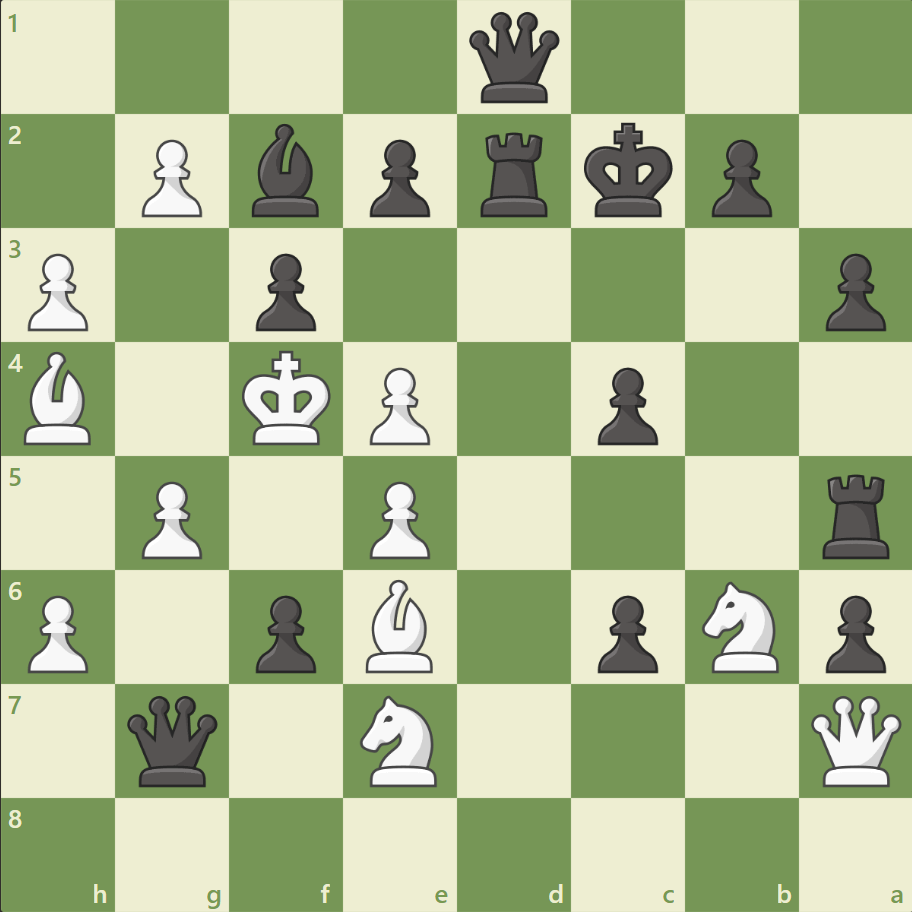B: (358, 574, 442, 676), (17, 347, 101, 449)
K: (238, 344, 338, 452)
N: (351, 688, 449, 791), (692, 575, 789, 677)
P: (20, 586, 95, 677), (133, 473, 208, 564), (20, 246, 95, 337), (133, 132, 208, 223), (361, 473, 435, 564), (361, 359, 435, 450)
Q: (805, 690, 904, 789)
b: (244, 120, 328, 222)
k: (579, 117, 679, 225)
p: (247, 586, 322, 677), (247, 246, 322, 337), (701, 132, 776, 223), (815, 586, 889, 677), (588, 586, 662, 677), (588, 359, 662, 450), (815, 246, 889, 337), (361, 132, 435, 223)
q: (124, 690, 223, 789), (464, 9, 563, 108)
r: (814, 466, 897, 563), (473, 125, 556, 222)
